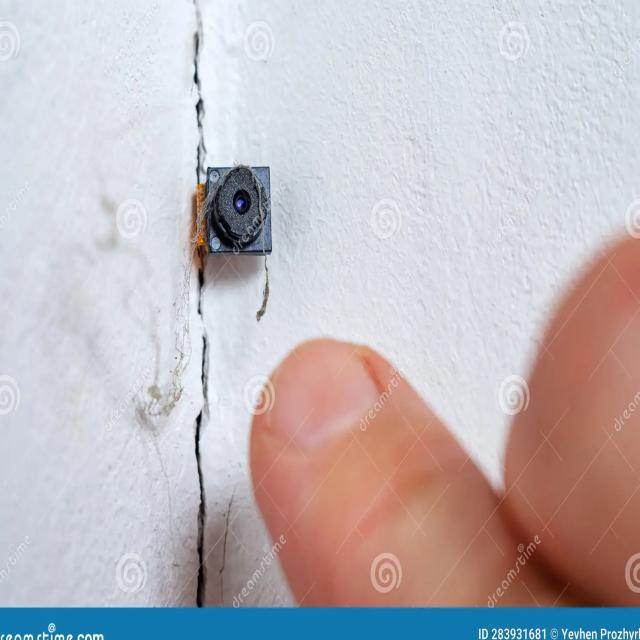hidden camera: (231, 188, 252, 218)
